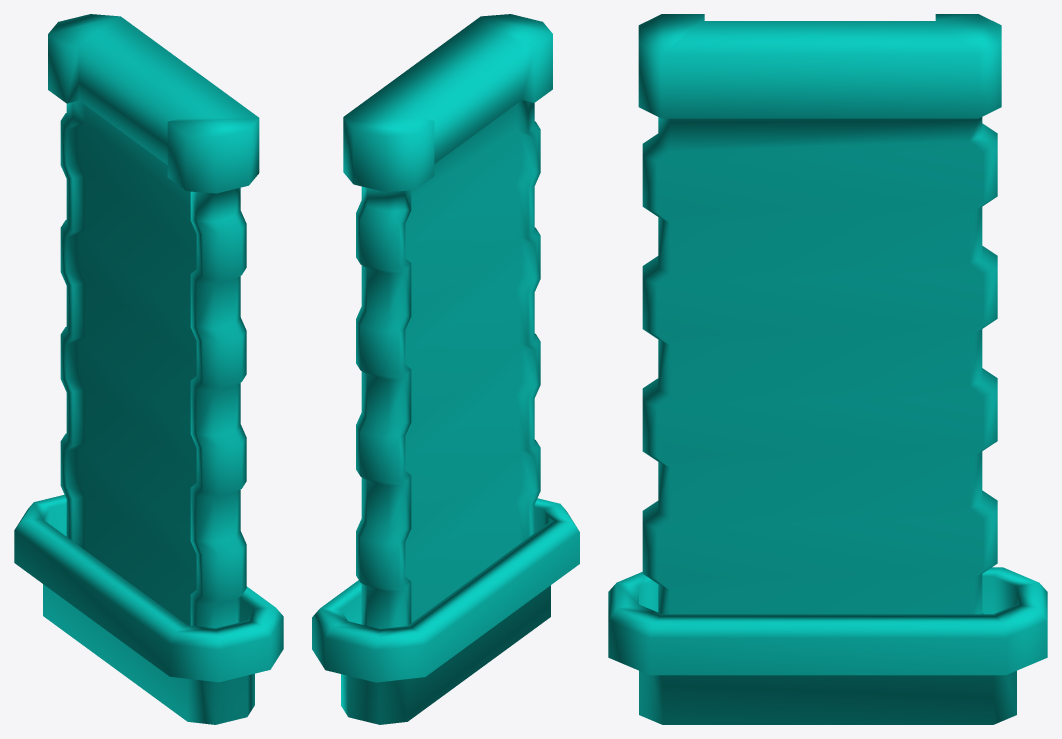
The model's file is ui_screen_small.fbx.
The picture shows the model from 3 angles, left to right: view 1: azimuth 30°, elevation 25°; view 2: azimuth 150°, elevation 25°; view 3: azimuth 270°, elevation 25°; orthographic projection. The views are drawn at different scales.
Visible parts, largest first — view 1: pCube7, pCube2; view 2: pCube7, pCube2; view 3: pCube7, pCube2.
Part boxes in pixels (x1,y1,x2,y2): pCube7: [48, 14, 259, 628]; pCube2: [14, 494, 283, 724]; pCube7: [343, 14, 552, 628]; pCube2: [312, 498, 579, 724]; pCube7: [638, 14, 1001, 614]; pCube2: [608, 567, 1047, 724].
Size of the model in its own units: 0.5364 by 2.64 by 1.56.
